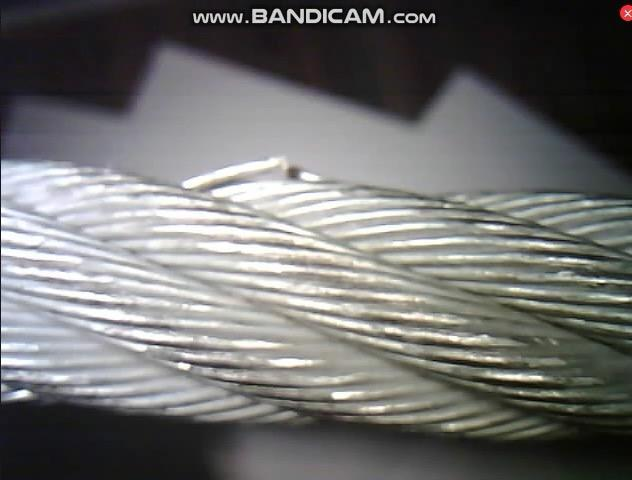break: (178, 144, 327, 206)
